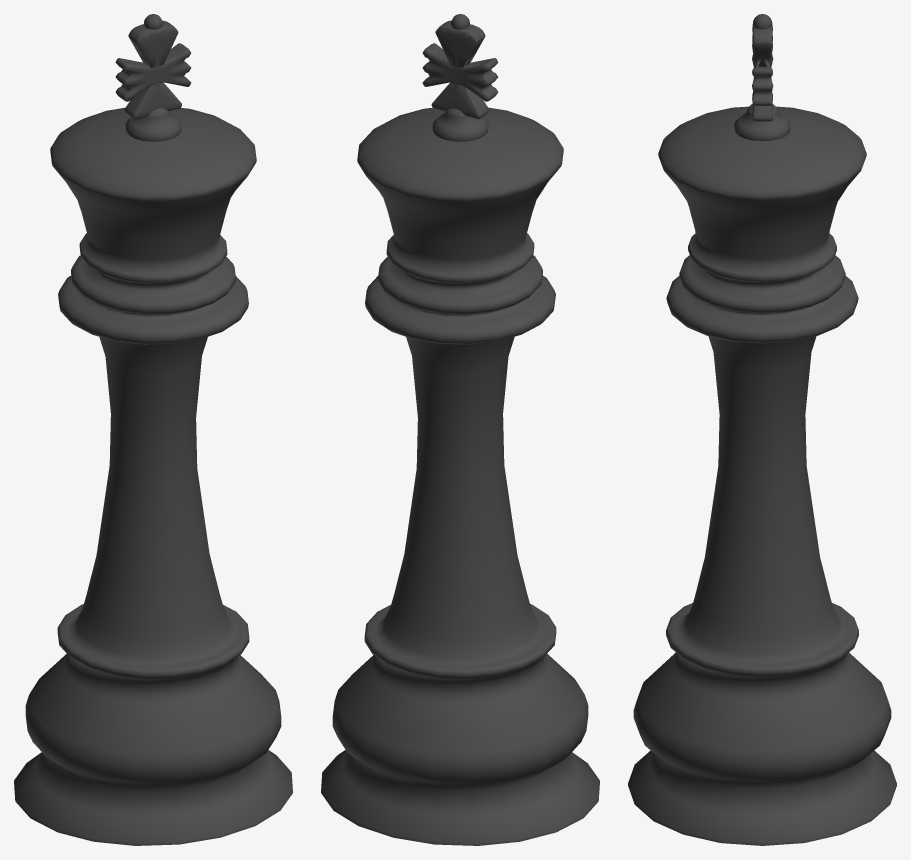
Rendered from BlackKing.obj.
3 renders of one model, left to right at view 1: azimuth 30°, elevation 25°; view 2: azimuth 150°, elevation 25°; view 3: azimuth 270°, elevation 25°, orthographic.
Visible parts, largest first — view 1: King1_King1Shape; view 2: King1_King1Shape; view 3: King1_King1Shape.
Boxes of the visible parts, <box> form: King1_King1Shape: <box>14,14,292,845</box>; King1_King1Shape: <box>321,14,599,845</box>; King1_King1Shape: <box>628,14,896,845</box>.
Bounding box in the file's own units: 0.9952 × 2.99 × 0.9435.
Materials: 1 (1 with a texture image).
